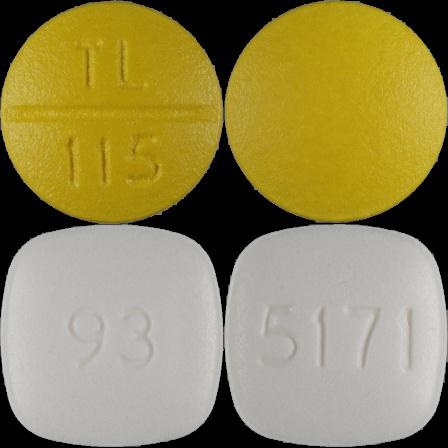33261-550: (0, 0, 224, 224)
